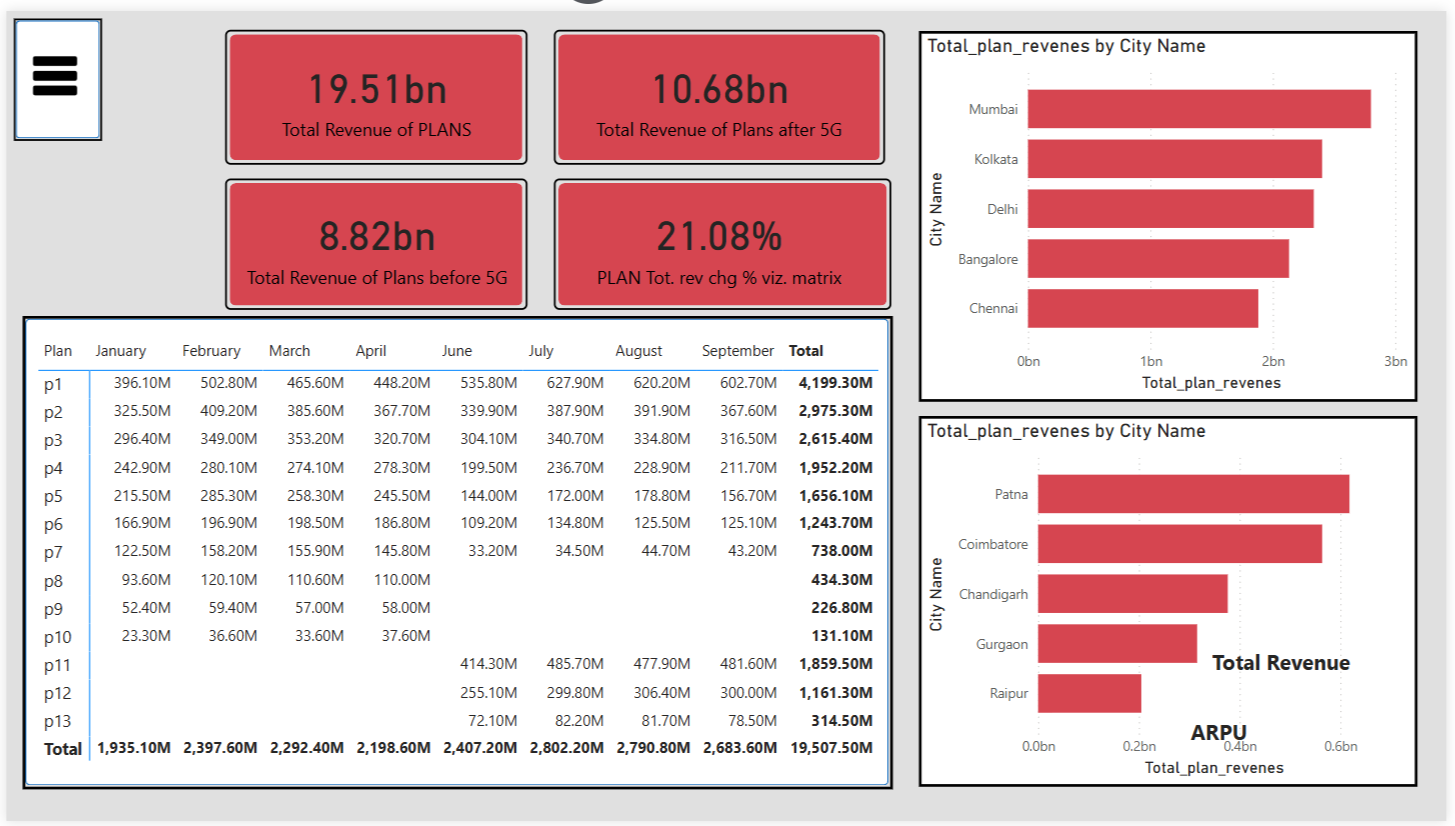

Layout of this report page (visuals, bound fields, positions):
{"tool":"powerbi","page":{"name":"PLANS MATRIX TABLE","canvas":[1280,720],"ordinal":5},"visuals":[{"type":"shape","box":[14.2,270.8,773.3,420.8],"z":0},{"type":"pivotTable","fields":{"Columns":["Dim_date.date.Variation.Date Hierarchy.Month"],"Values":["Key Measures.Total Revenue of PLANS"],"Rows":["Dim_Plan.Plan"]},"box":[22.9,285.7,758.4,391],"z":1000},{"type":"barChart","fields":{"Category":["City_Name.City Name"],"Y":["Key Measures.Total_plan_revenes"]},"box":[811,17.8,443.2,329.3],"z":8000},{"type":"barChart","fields":{"Category":["City_Name.City Name"],"Y":["Key Measures.Total_plan_revenes"]},"box":[811,359.5,443.2,329.3],"z":9000},{"type":"shape","box":[194.3,17.1,268.6,120],"z":10000},{"type":"shape","box":[194.3,148.6,268.6,117.1],"z":11000},{"type":"shape","box":[487.1,148.6,300,117.1],"z":12000},{"type":"shape","box":[487.1,17.1,294.3,120],"z":13000},{"type":"textbox","box":[1067.1,561.4,155.7,54.3],"z":14000},{"type":"textbox","box":[930,622.9,295.7,40],"z":15000},{"type":"card","fields":{"Values":["Key Measures.Total Revenue of PLANS"]},"box":[210,24.3,238.6,104.3],"z":16000},{"type":"card","fields":{"Values":["Key Measures.Total Revenue of Plans after 5G"]},"box":[514.3,24.3,238.6,104.3],"z":17000},{"type":"card","fields":{"Values":["Key Measures.Total Revenue of Plans before 5G"]},"box":[202.9,155.7,252.9,104.3],"z":18000},{"type":"card","fields":{"Values":["Key Measures.PLAN Tot. rev chg % viz. matrix"]},"box":[514.3,155.7,238.6,104.3],"z":19000},{"type":"shape","box":[7.2,7.2,78.8,109],"z":21000},{"type":"image","box":[18.6,24.4,48.7,65.9],"z":22000}]}

Visuals, with their boxes in screenshot pixels (x1, y1, x2, y2), scaled from the page's 1280x720 canvas onto the 1455x826 screenshot:
shape: box=[16, 311, 895, 793]
pivotTable - Dim_date.date.Variation.Date Hierarchy.Month x Key Measures.Total Revenue of PLANS: box=[26, 328, 888, 776]
barChart - City_Name.City Name x Key Measures.Total_plan_revenes: box=[922, 20, 1426, 398]
barChart - City_Name.City Name x Key Measures.Total_plan_revenes: box=[922, 412, 1426, 790]
shape: box=[221, 20, 526, 157]
shape: box=[221, 170, 526, 305]
shape: box=[554, 170, 895, 305]
shape: box=[554, 20, 888, 157]
textbox: box=[1213, 644, 1390, 706]
textbox: box=[1057, 715, 1393, 760]
card - Key Measures.Total Revenue of PLANS: box=[239, 28, 510, 148]
card - Key Measures.Total Revenue of Plans after 5G: box=[585, 28, 856, 148]
card - Key Measures.Total Revenue of Plans before 5G: box=[231, 179, 518, 298]
card - Key Measures.PLAN Tot. rev chg % viz. matrix: box=[585, 179, 856, 298]
shape: box=[8, 8, 98, 133]
image: box=[21, 28, 77, 104]
